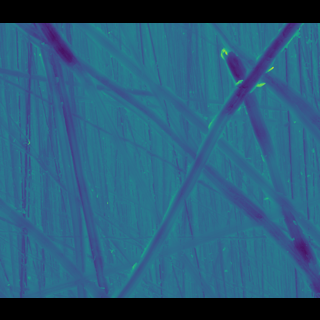Loch: (8, 42, 209, 177), (215, 62, 319, 276), (0, 212, 169, 278)
